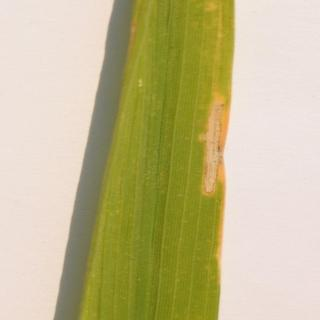Hawar-Daun: (195, 80, 235, 216)
